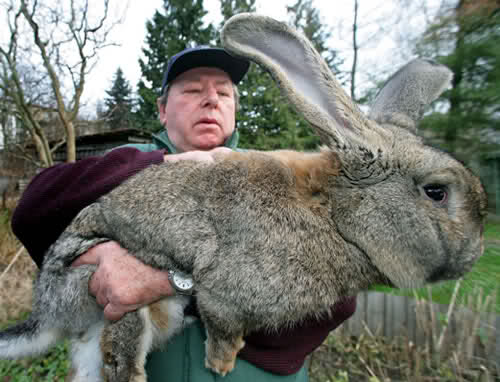bunny: (4, 10, 491, 382)
